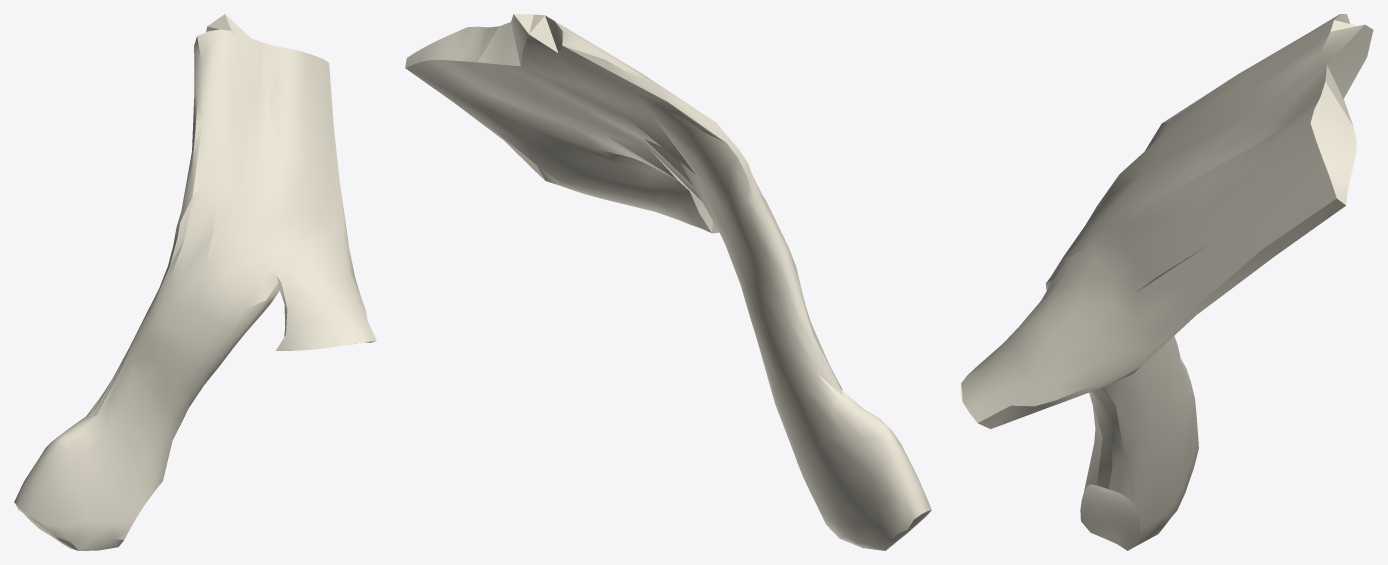
The model's file is fma323754-l_mm2017m.glb.
3 views of the same model, side by side, from view 1: azimuth 30°, elevation 25°; view 2: azimuth 150°, elevation 25°; view 3: azimuth 270°, elevation 25° (orthographic). The views are drawn at different scales.
Parts seen in each view (by area): view 1: FMA323754-L_MM2017M; view 2: FMA323754-L_MM2017M; view 3: FMA323754-L_MM2017M.
Boxes of the visible parts, bbox=[...] form: FMA323754-L_MM2017M: bbox=[14, 14, 376, 550]; FMA323754-L_MM2017M: bbox=[405, 14, 931, 550]; FMA323754-L_MM2017M: bbox=[960, 14, 1373, 550].
Bounding box in the file's own units: 0.0182 × 0.0204 × 0.0114.
